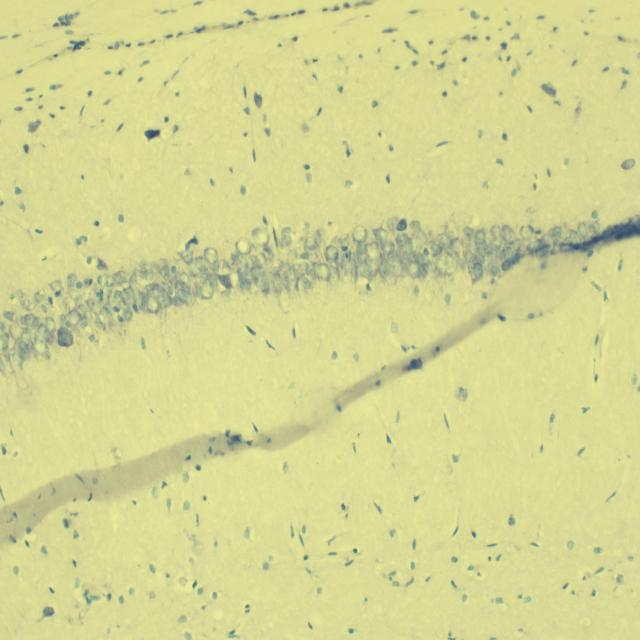neuron: (250, 264, 270, 294), (438, 251, 459, 276), (17, 289, 37, 310), (386, 253, 402, 278), (252, 228, 270, 248), (0, 352, 16, 374), (314, 262, 331, 281), (279, 227, 292, 251), (9, 352, 23, 374), (32, 339, 49, 357), (85, 297, 102, 315), (187, 258, 203, 277), (229, 254, 248, 270), (358, 262, 373, 282), (444, 220, 459, 240), (236, 237, 252, 255), (201, 278, 214, 300), (43, 315, 57, 335), (367, 240, 379, 263), (38, 324, 51, 345), (279, 260, 292, 281), (408, 260, 421, 281), (475, 238, 490, 256), (17, 342, 31, 361), (298, 272, 312, 291), (271, 272, 283, 294), (58, 331, 74, 347), (422, 263, 438, 279), (324, 245, 339, 262), (353, 225, 367, 243), (502, 229, 516, 247), (49, 279, 64, 295), (147, 294, 159, 314), (304, 234, 318, 251), (374, 227, 388, 244), (525, 239, 542, 253), (287, 267, 296, 293), (490, 224, 503, 242), (68, 310, 82, 326), (204, 248, 218, 264), (520, 224, 534, 240), (437, 233, 450, 250), (328, 266, 339, 286), (483, 250, 493, 272), (296, 260, 308, 278), (470, 263, 482, 281), (24, 314, 39, 328), (252, 253, 267, 267), (473, 229, 487, 244), (568, 231, 583, 245), (9, 323, 22, 339), (4, 308, 17, 324), (20, 326, 33, 342), (237, 264, 250, 280), (502, 246, 515, 262), (160, 291, 172, 308), (578, 221, 590, 238), (369, 258, 379, 278), (156, 302, 167, 320), (415, 230, 426, 248), (380, 241, 394, 255), (548, 226, 562, 240), (337, 234, 350, 249), (620, 159, 636, 171), (0, 332, 10, 351), (187, 286, 196, 307), (179, 272, 190, 289), (35, 289, 47, 304), (112, 271, 127, 283), (123, 285, 135, 300), (196, 256, 208, 271), (308, 268, 318, 286), (303, 250, 318, 262), (398, 258, 408, 276), (122, 307, 133, 323), (463, 226, 474, 242), (405, 237, 414, 256), (180, 250, 192, 264), (380, 258, 388, 279), (396, 232, 408, 246), (408, 221, 422, 233), (415, 252, 426, 267), (7, 336, 16, 354), (78, 303, 88, 319), (130, 274, 140, 290), (159, 264, 169, 280), (334, 251, 344, 267), (388, 216, 398, 232), (490, 237, 502, 250), (67, 273, 77, 288), (104, 304, 114, 319), (512, 238, 522, 253), (104, 276, 116, 288), (396, 220, 408, 232), (430, 243, 442, 255), (472, 254, 482, 268), (494, 255, 504, 269), (351, 258, 356, 284), (358, 242, 368, 255), (102, 320, 111, 334), (490, 266, 501, 277), (142, 293, 148, 313), (145, 284, 160, 292), (178, 289, 186, 304), (590, 222, 600, 234), (119, 296, 128, 309), (166, 283, 175, 296), (463, 249, 472, 262), (85, 309, 93, 323), (114, 289, 122, 302), (172, 295, 181, 306), (0, 358, 7, 372), (144, 270, 152, 282), (169, 275, 178, 285), (102, 306, 110, 314), (98, 274, 102, 286)
